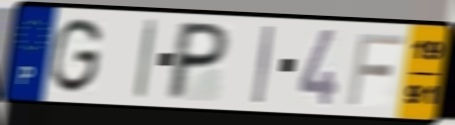4: (296, 25, 340, 110)
F: (345, 30, 407, 108)
G: (47, 15, 106, 96)
I: (132, 17, 160, 102), (250, 23, 277, 107)
P: (162, 19, 233, 103)
